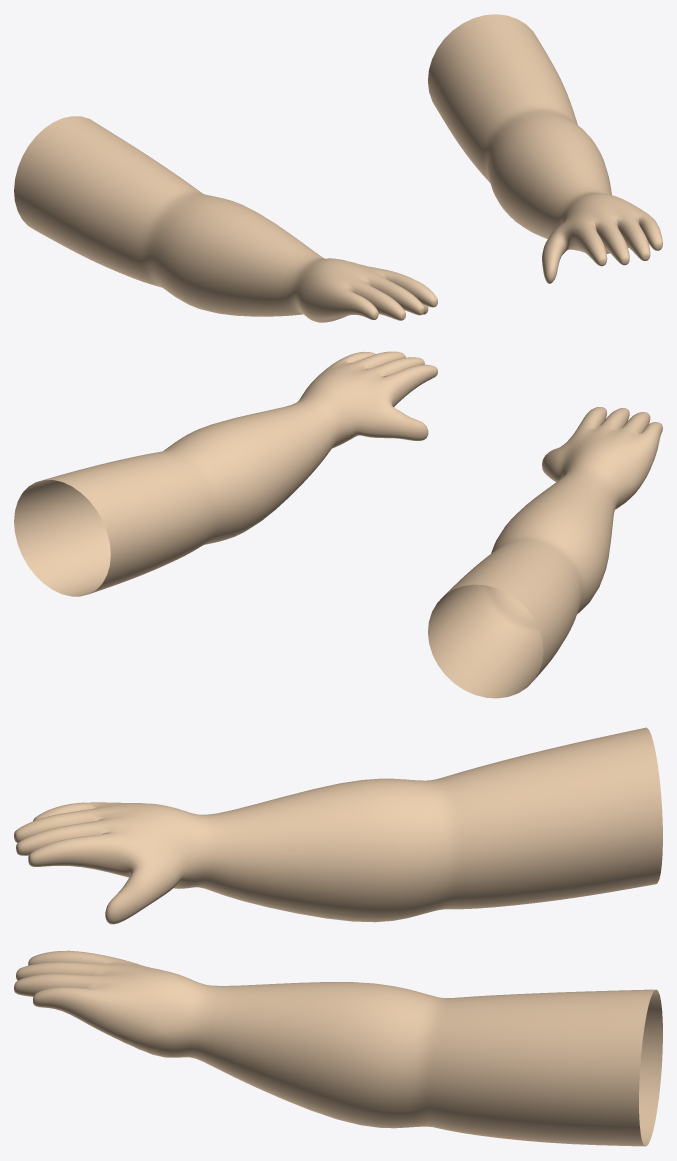
The model's file is baby_hand.fbx.
The picture shows the model from 3 angles, top to bottom: view 1: azimuth 30°, elevation 25°; view 2: azimuth 150°, elevation 25°; view 3: azimuth 270°, elevation 25°; orthographic projection. The views are drawn at different scales.
Parts seen in each view (by area): view 1: Baby+hand; view 2: Baby+hand; view 3: Baby+hand.
Boxes of the visible parts, bbox=[...] form: Baby+hand: bbox=[14, 14, 662, 322]; Baby+hand: bbox=[14, 351, 662, 698]; Baby+hand: bbox=[14, 727, 662, 1146].
Bounding box in the file's own units: 103 × 22.25 × 85.77.
